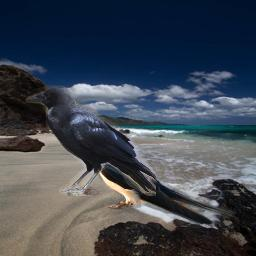Crow: (25, 85, 156, 196)
Swallow: (67, 120, 236, 228)
